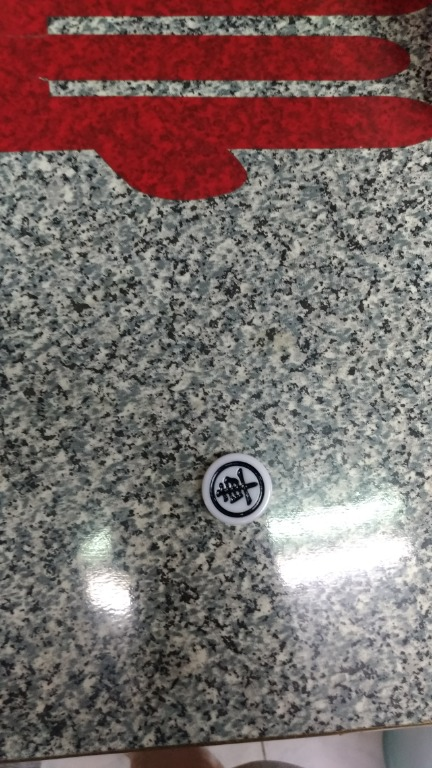b-king: (194, 452, 277, 530)
